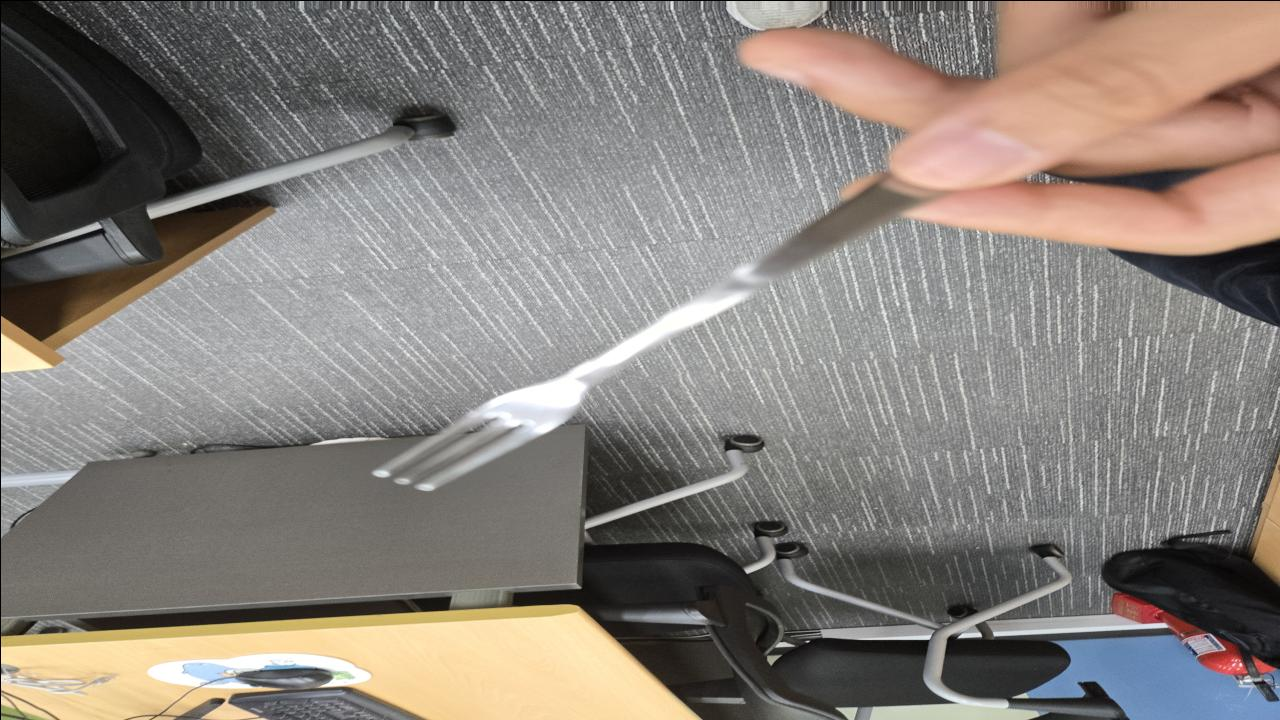fork: (368, 176, 938, 491)
